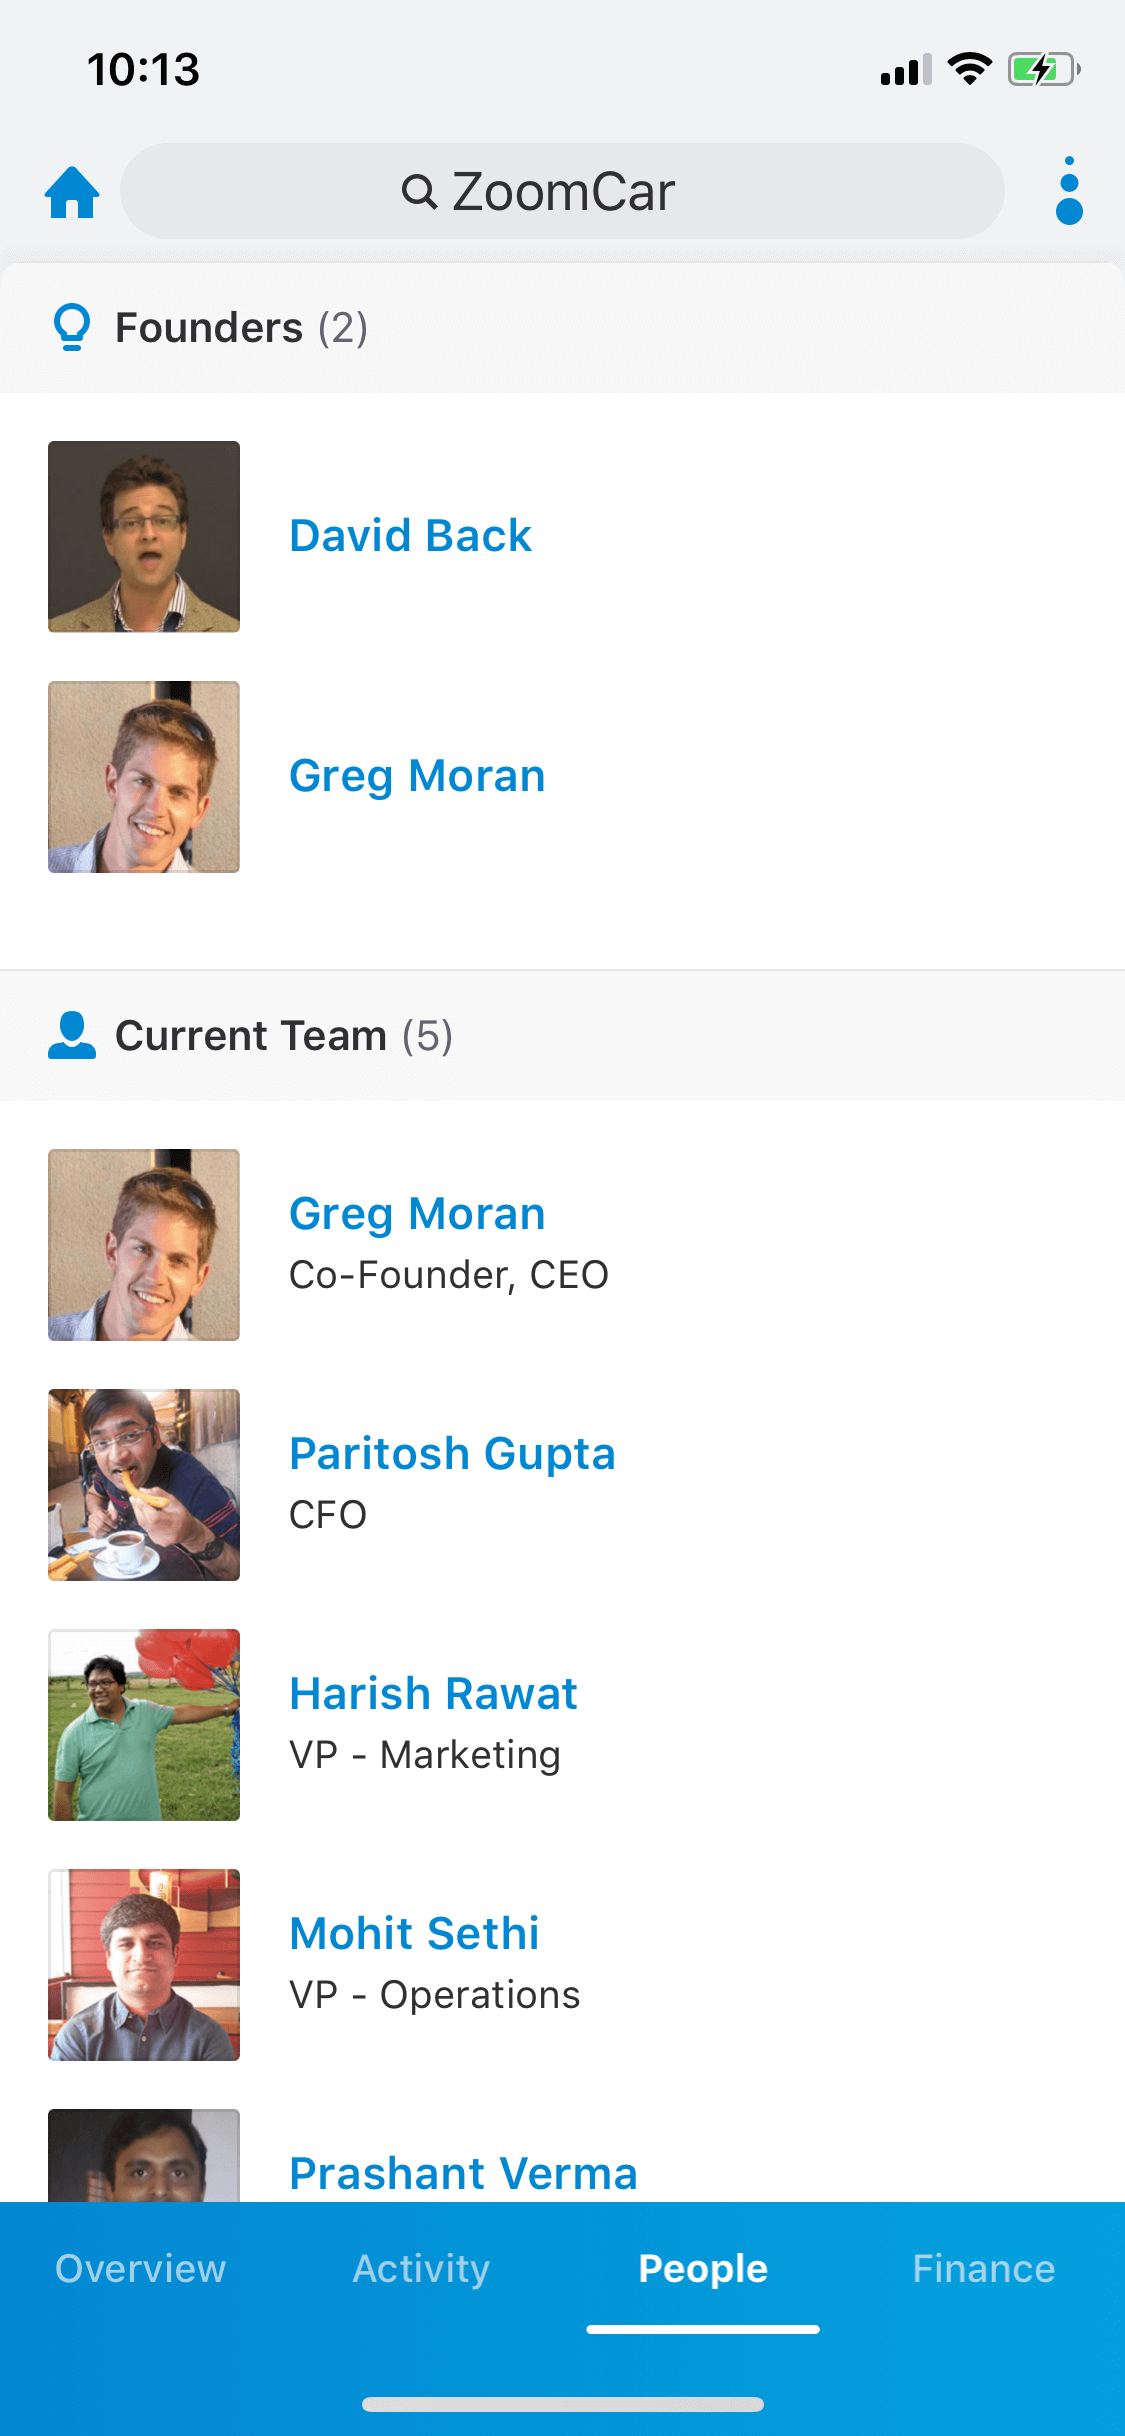Buttons: (11, 127, 117, 249), (1013, 123, 1109, 250)
